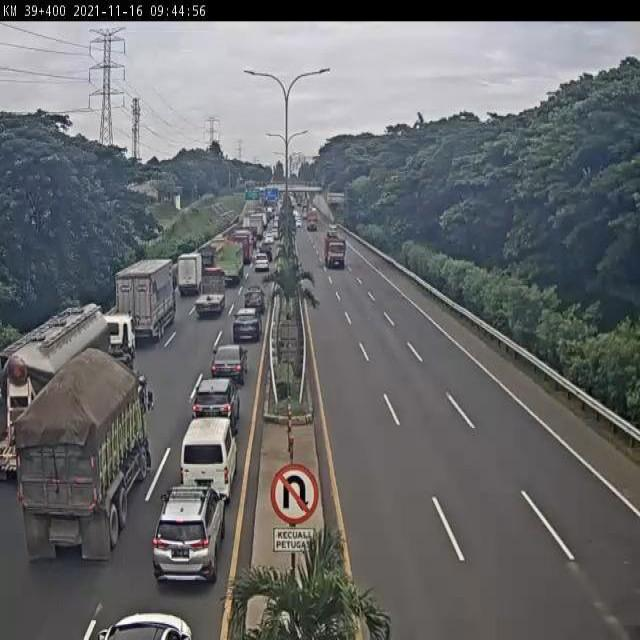car: (152, 488, 224, 584), (180, 417, 235, 499), (188, 378, 236, 442), (207, 345, 244, 388), (229, 309, 261, 348), (240, 290, 267, 322), (249, 250, 270, 278)
small truck: (174, 247, 205, 294)
truck-l-: (18, 357, 151, 560), (106, 264, 173, 352), (211, 240, 247, 292)
truck-m-: (194, 266, 229, 322)
truck-xl-: (2, 304, 135, 479)
